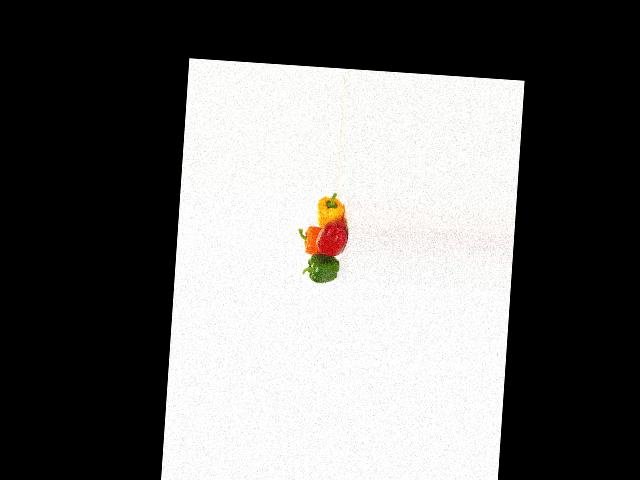bell_pepper: (304, 251, 344, 285)
